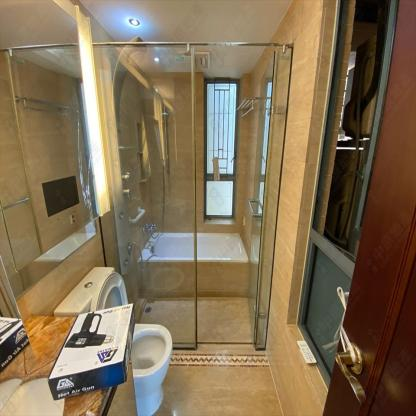Bathtub: (135, 228, 248, 297)
Toilet: (131, 323, 173, 415), (53, 265, 127, 316)
Toilet Sink: (1, 376, 64, 415)
Water Cubicle: (90, 41, 293, 351)
